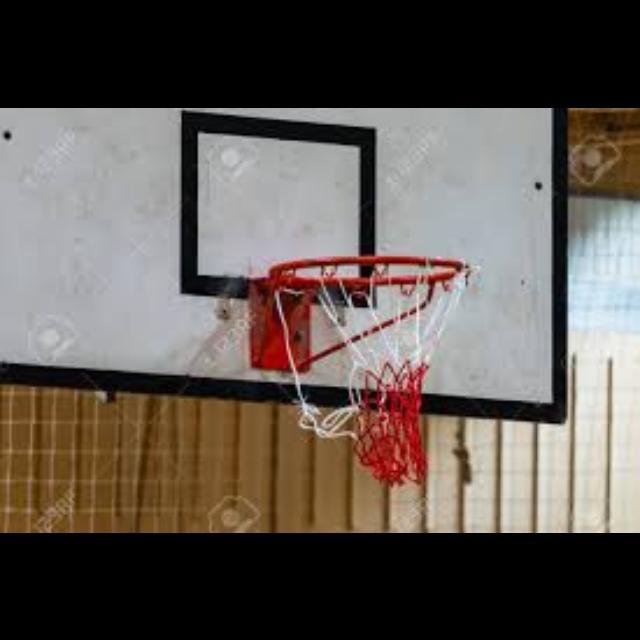rim: (270, 254, 468, 482)
